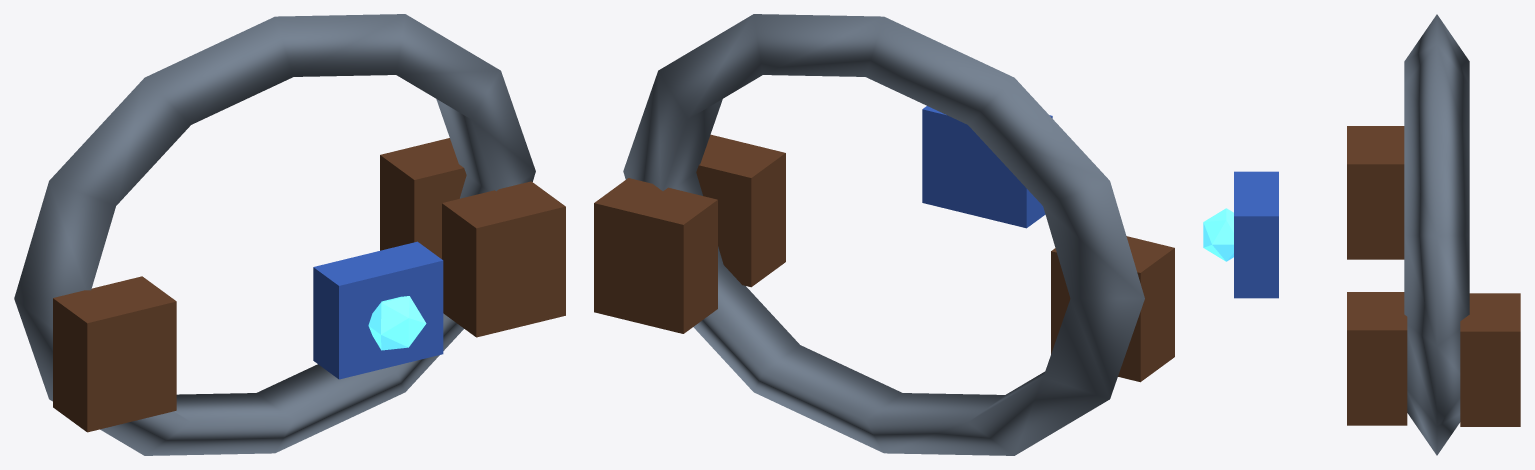
File: belt_t2.glb
3 views of the same model, side by side, from view 1: azimuth 30°, elevation 25°; view 2: azimuth 150°, elevation 25°; view 3: azimuth 270°, elevation 25° (orthographic). The views are drawn at different scales.
Parts seen in each view (by area): view 1: item_darkMetal2, item_leather2, item_trim2, item_gem2; view 2: item_darkMetal2, item_leather2, item_trim2; view 3: item_darkMetal2, item_leather2, item_trim2, item_gem2.
Part boxes in pixels (x1=…): item_darkMetal2: x1=14, y1=14, x2=535, y2=455; item_leather2: x1=53, y1=138, x2=565, y2=432; item_trim2: x1=313, y1=241, x2=443, y2=379; item_gem2: x1=368, y1=296, x2=426, y2=350; item_darkMetal2: x1=623, y1=14, x2=1144, y2=455; item_leather2: x1=594, y1=134, x2=1174, y2=382; item_trim2: x1=922, y1=106, x2=1052, y2=228; item_darkMetal2: x1=1404, y1=14, x2=1469, y2=455; item_leather2: x1=1347, y1=126, x2=1520, y2=426; item_trim2: x1=1234, y1=171, x2=1278, y2=298; item_gem2: x1=1203, y1=208, x2=1233, y2=261.
Bounding box in the file's own units: 0.35 × 0.28 × 0.2109.
